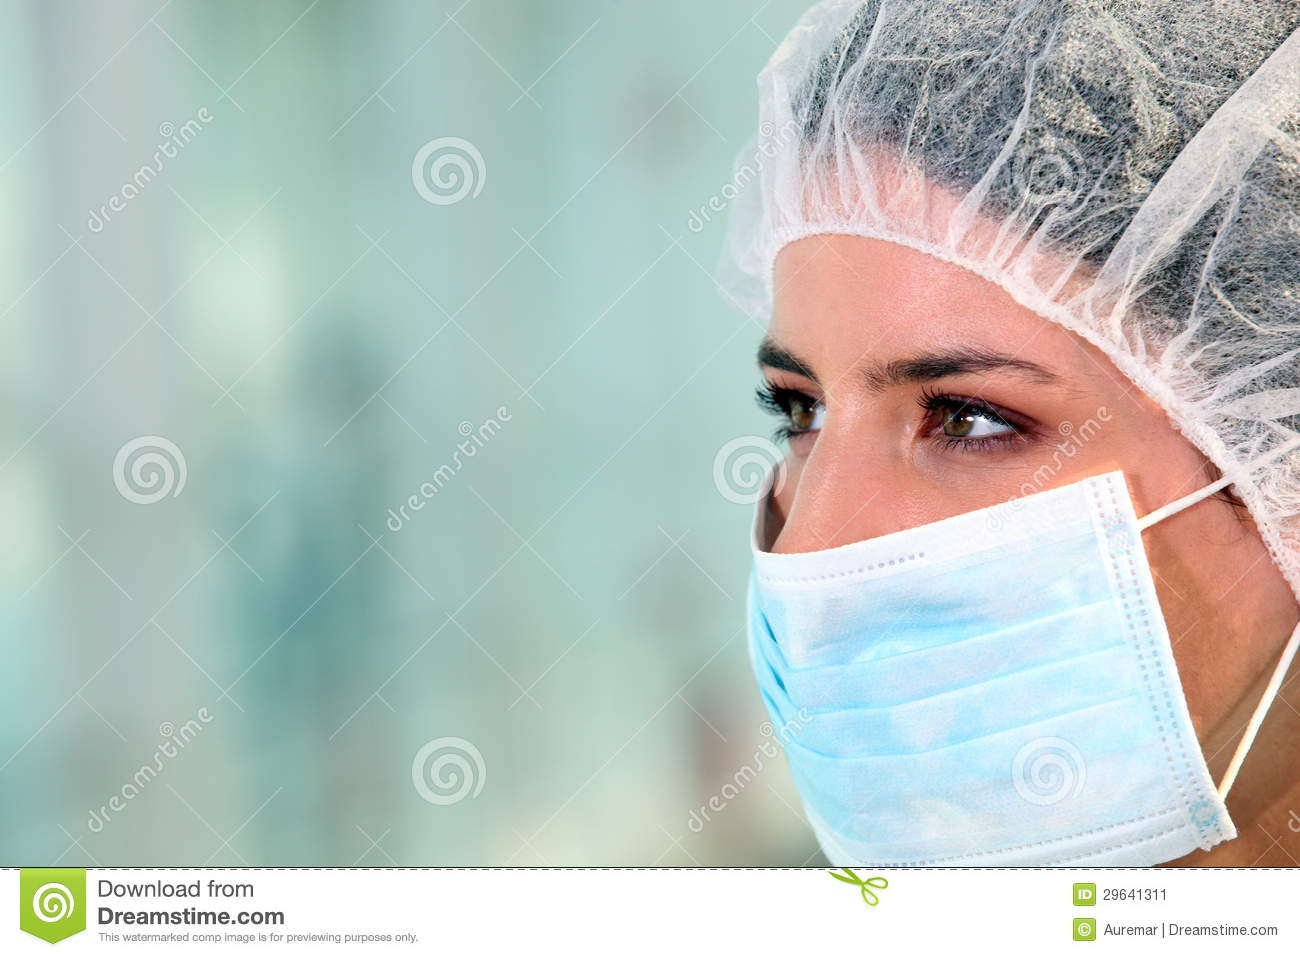mask: (736, 476, 1235, 871)
